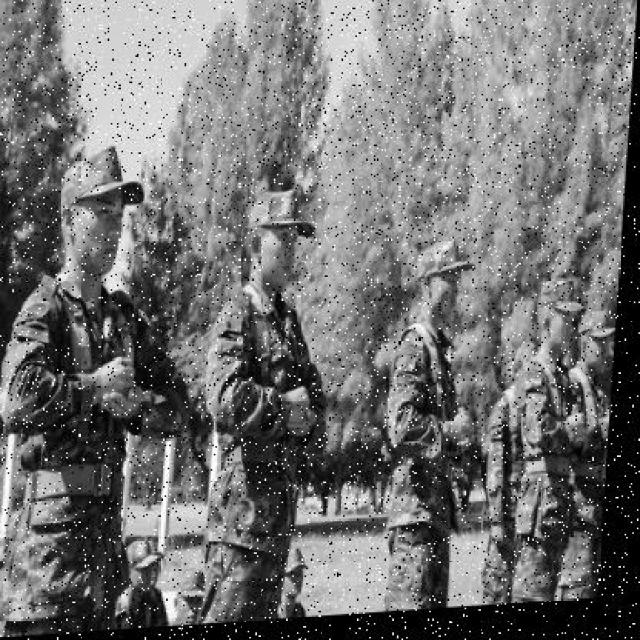MIL_Pax: (0, 150, 169, 638), (205, 156, 344, 627), (375, 237, 483, 618), (522, 277, 592, 611), (567, 308, 622, 608), (488, 351, 543, 612), (124, 537, 181, 632), (278, 551, 328, 624), (172, 572, 214, 630), (0, 543, 22, 640)
